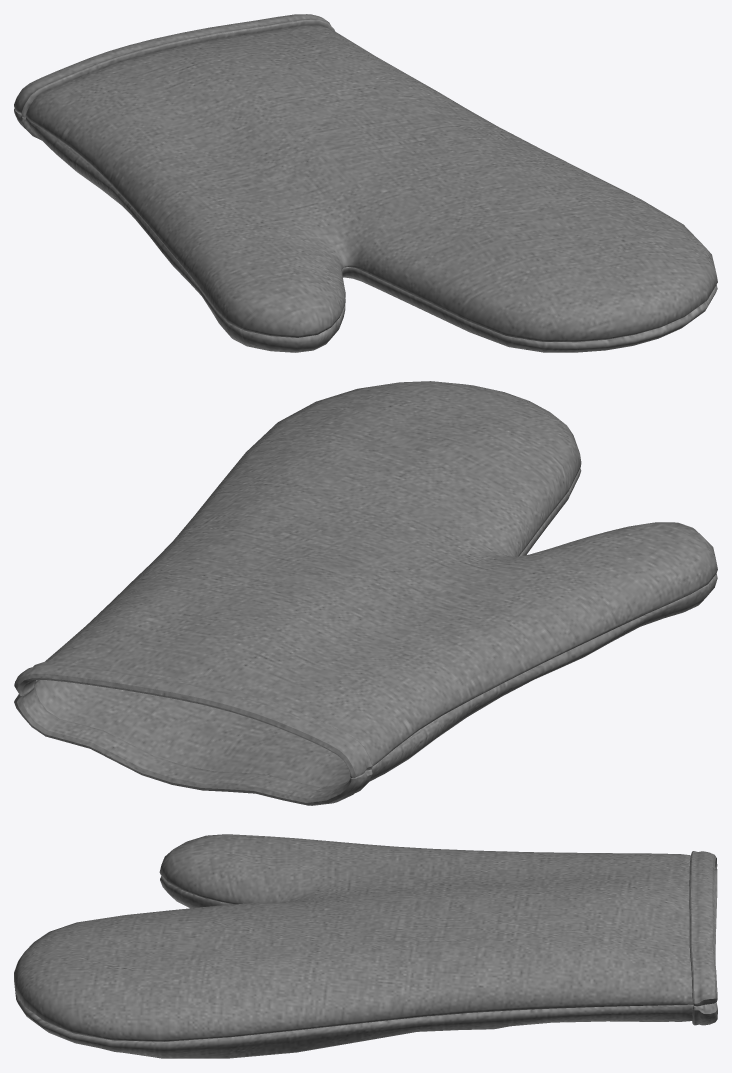
The model's file is OvenMittCloth.obj.
3 views of the same model, one above another, from view 1: azimuth 30°, elevation 25°; view 2: azimuth 150°, elevation 25°; view 3: azimuth 270°, elevation 25° (orthographic). The views are drawn at different scales.
Visible parts, largest first — view 1: OvenMittCloth; view 2: OvenMittCloth; view 3: OvenMittCloth.
Boxes of the visible parts, box(x1,y1,x2,y2) form: OvenMittCloth: box(14, 14, 717, 352); OvenMittCloth: box(14, 381, 717, 805); OvenMittCloth: box(14, 834, 717, 1058).
Bounding box in the file's own units: 0.2913 × 0.0641 × 0.4486.
Materials: 1 (1 with a texture image).
